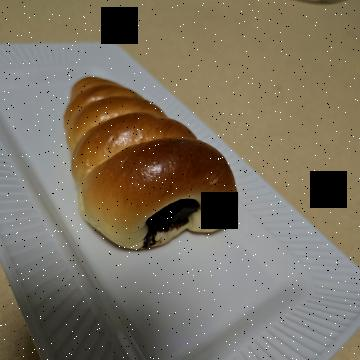cream horn: (51, 116, 270, 310)
